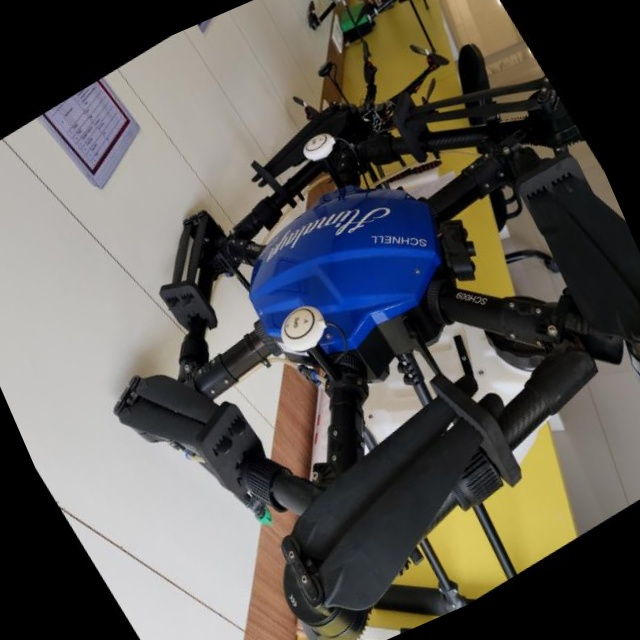agriculturedrone: (3, 0, 640, 640)
